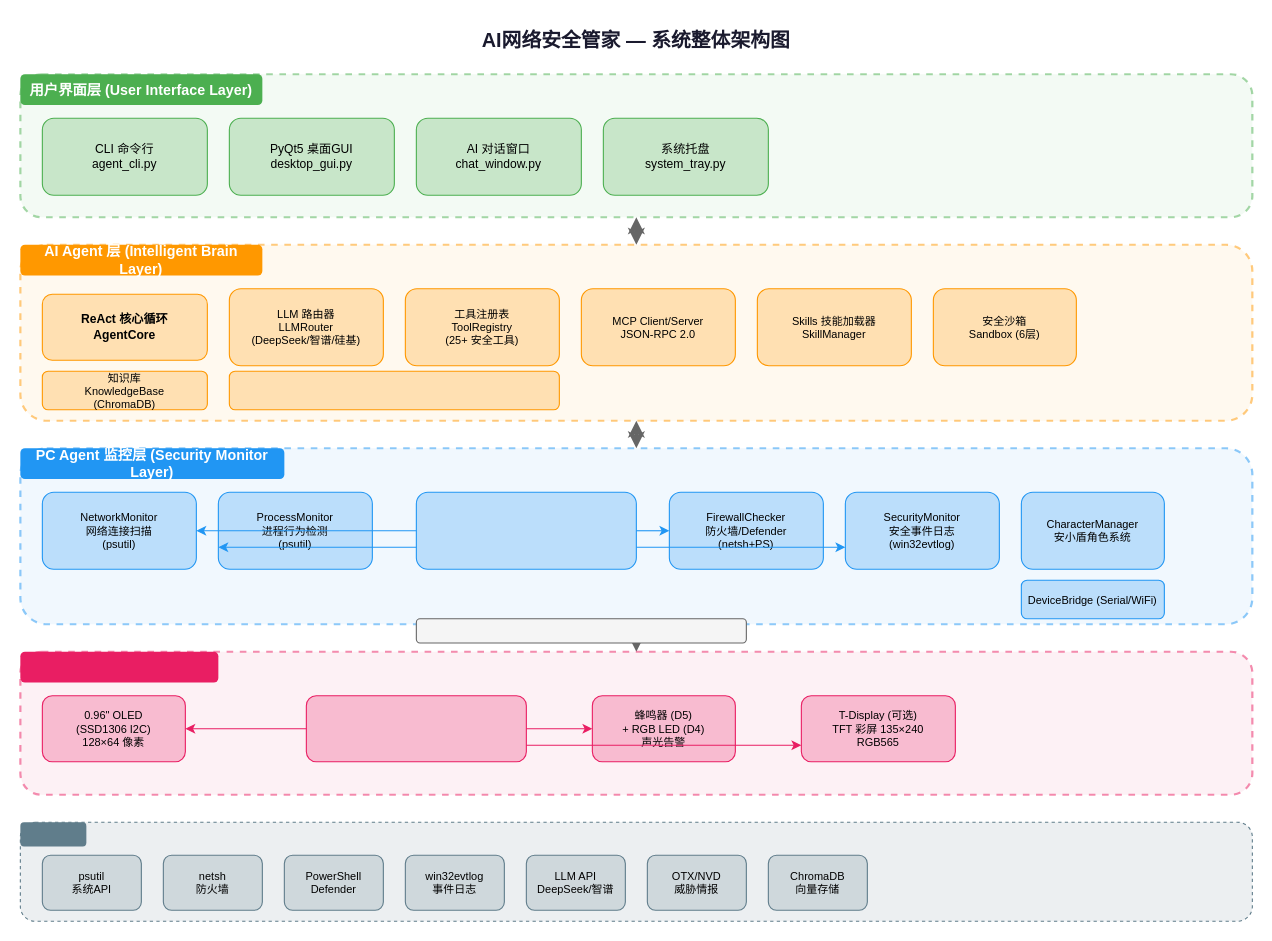
Some shapes in this 1272 by 941 pixel diagram are drawn without their labels. The shapes that lost their labels are listed below. From the top down, each one's centre as x and y in pixels, then its label:
the point at 393,390: OTX威胁情报 | NVD漏洞库 | Web搜索
the point at 525,530: GuardianController 主控制器 (中央调度器) 维护全局 state 字典
the point at 580,630: ↕ JSON over Serial (115200bps) / WiFi TCP
the point at 119,666: 硬件层 (Hardware Layer)
the point at 415,728: ESP32 微控制器 (Xtensa LX6 双核 240MHz)
the point at 53,834: 数据源
